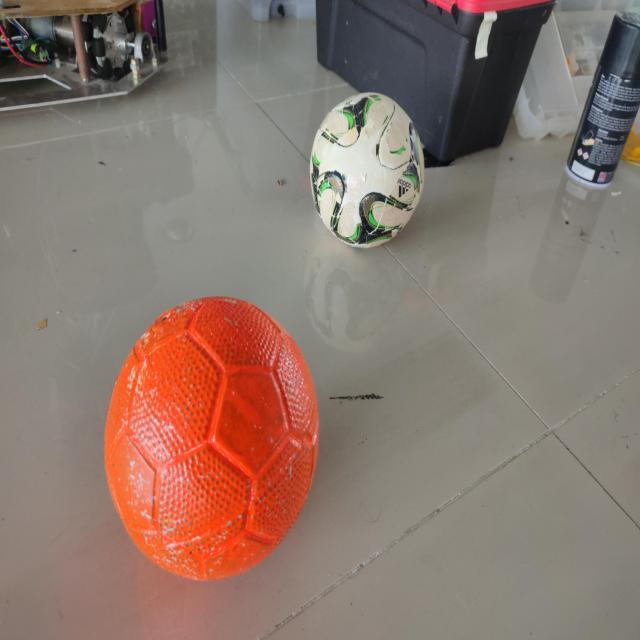bola: (92, 276, 330, 602)
